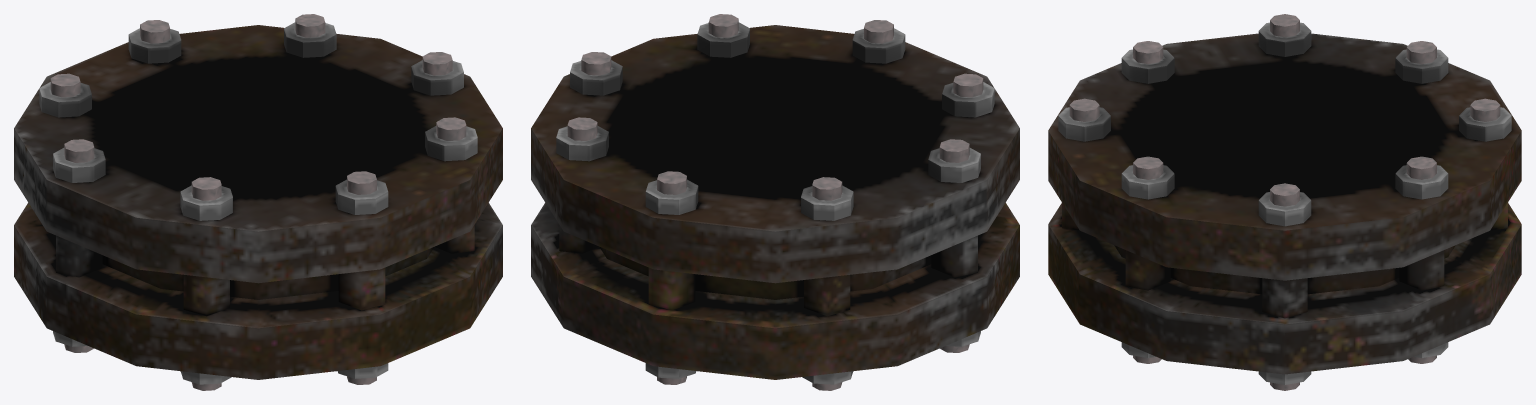
The model's file is NM_BigTube_Connector_01.fbx.
The picture shows the model from 3 angles, left to right: view 1: azimuth 30°, elevation 25°; view 2: azimuth 150°, elevation 25°; view 3: azimuth 270°, elevation 25°; orthographic projection. The views are drawn at different scales.
Visible parts, largest first — view 1: Connector_02_low006; view 2: Connector_02_low006; view 3: Connector_02_low006.
Boxes of the visible parts, x1,y1,x2,y2 form: Connector_02_low006: [14, 14, 502, 390]; Connector_02_low006: [531, 14, 1019, 390]; Connector_02_low006: [1048, 14, 1521, 390].
Bounding box in the file's own units: 44.27 × 20.1 × 44.27.
